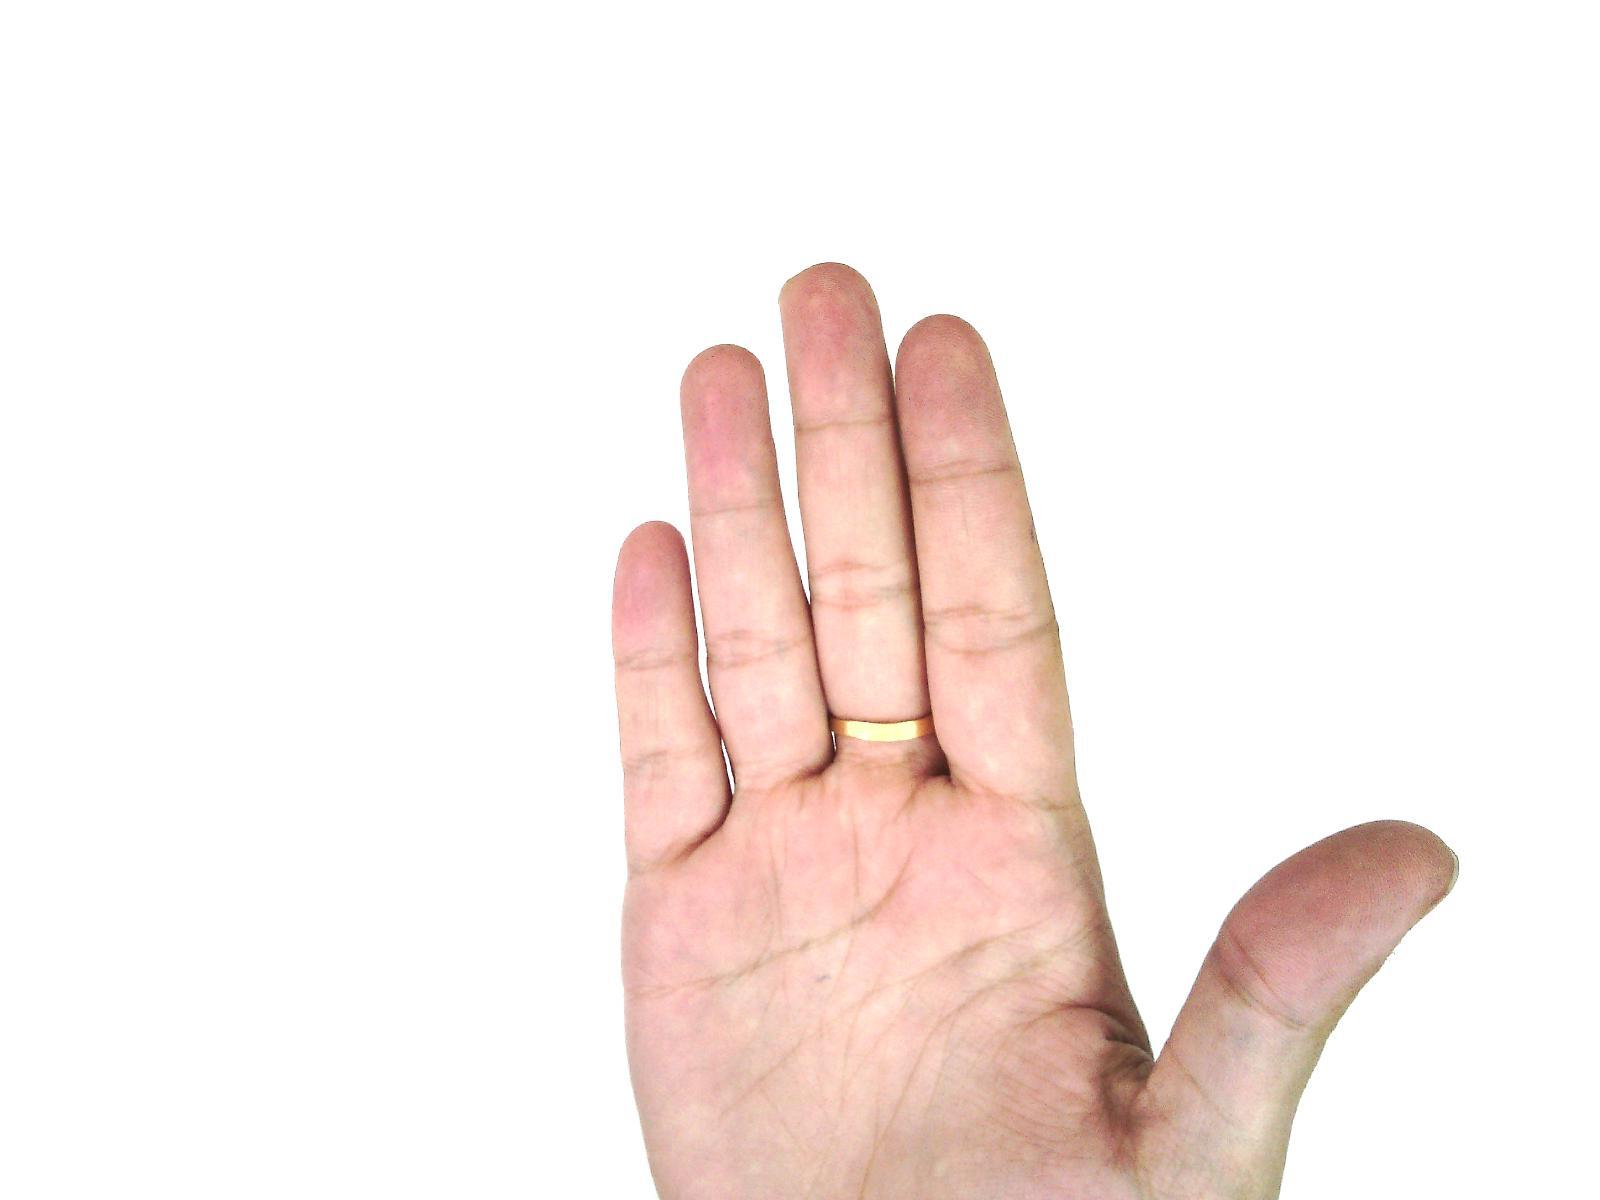hand: (577, 258, 1461, 1199)
